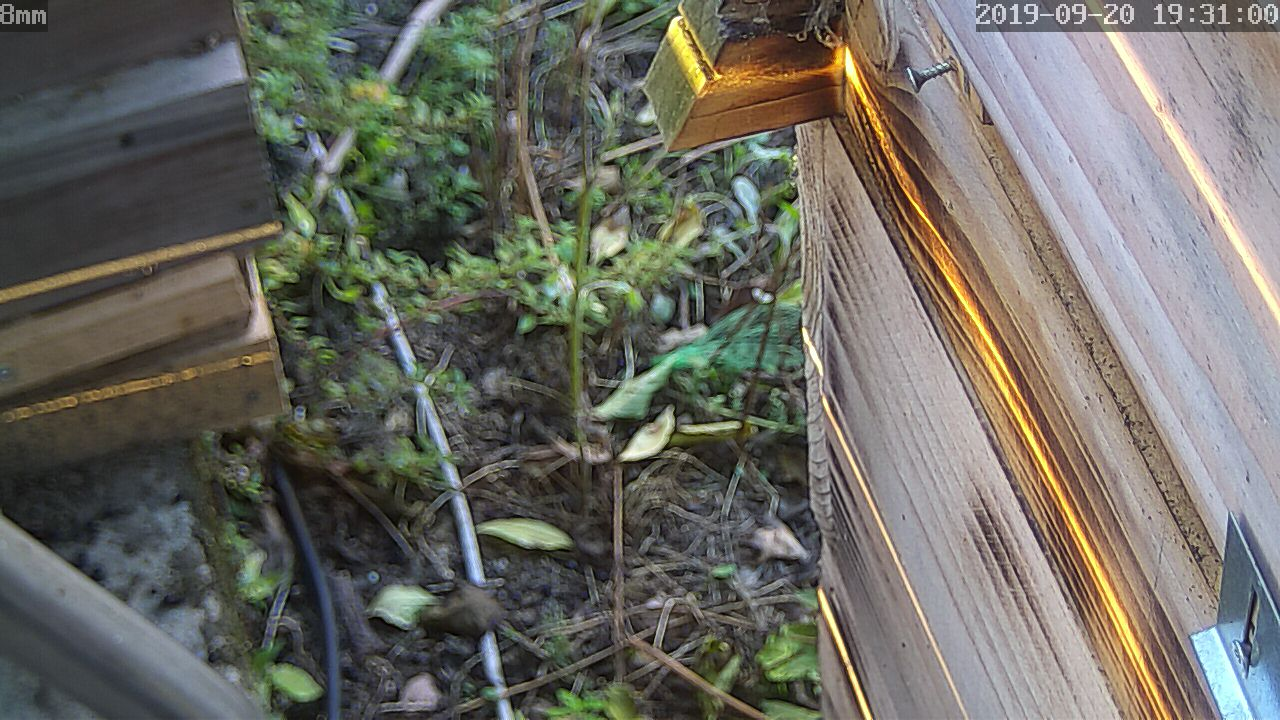hornet: (121, 0, 1091, 720)
